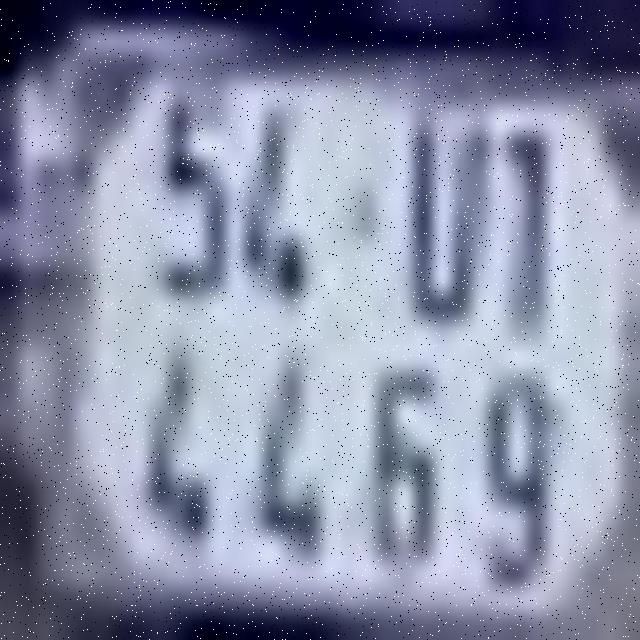1: (501, 123, 557, 342)
4: (140, 329, 222, 559), (253, 346, 330, 568), (242, 100, 315, 316)
5: (155, 88, 232, 301)
6: (371, 364, 441, 575)
9: (480, 371, 552, 589)
U: (404, 113, 491, 326)
